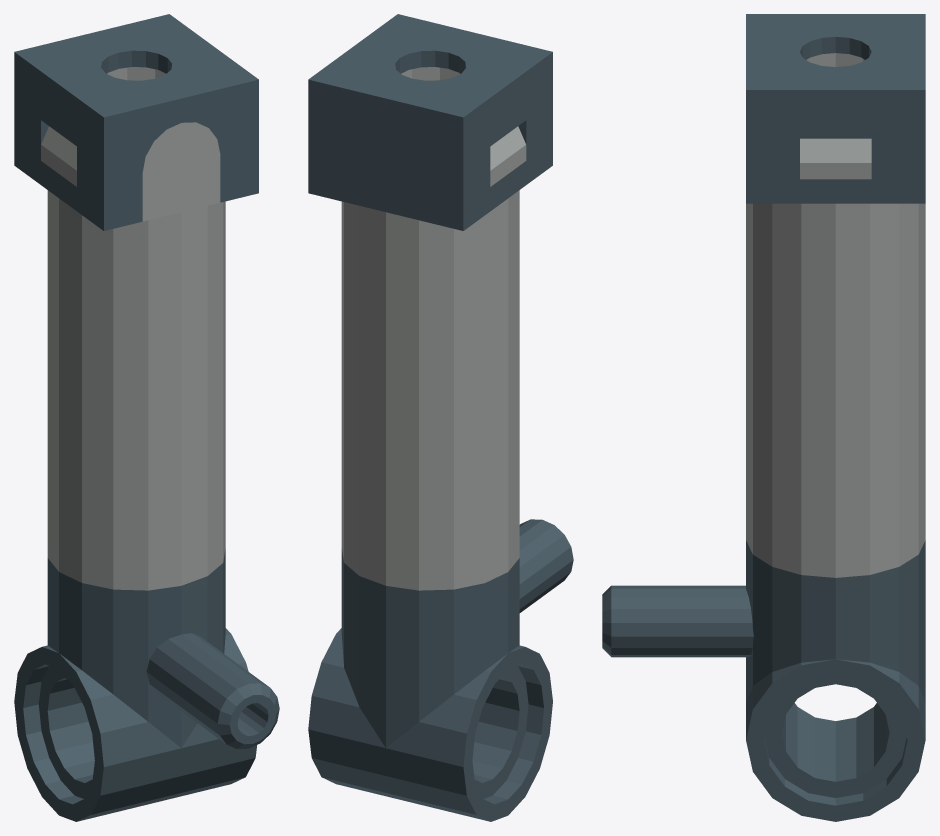
The picture shows the model from 3 angles, left to right: view 1: azimuth 30°, elevation 25°; view 2: azimuth 150°, elevation 25°; view 3: azimuth 270°, elevation 25°; orthographic projection.
Parts seen in each view (by area): view 1: world; view 2: world; view 3: world.
Boxes of the visible parts, x1,y1,x2,y2 form: world: (14, 14, 279, 821); world: (308, 14, 573, 821); world: (602, 14, 925, 821).
Bounding box in the file's own units: 0.008 × 0.036 × 0.0144.
